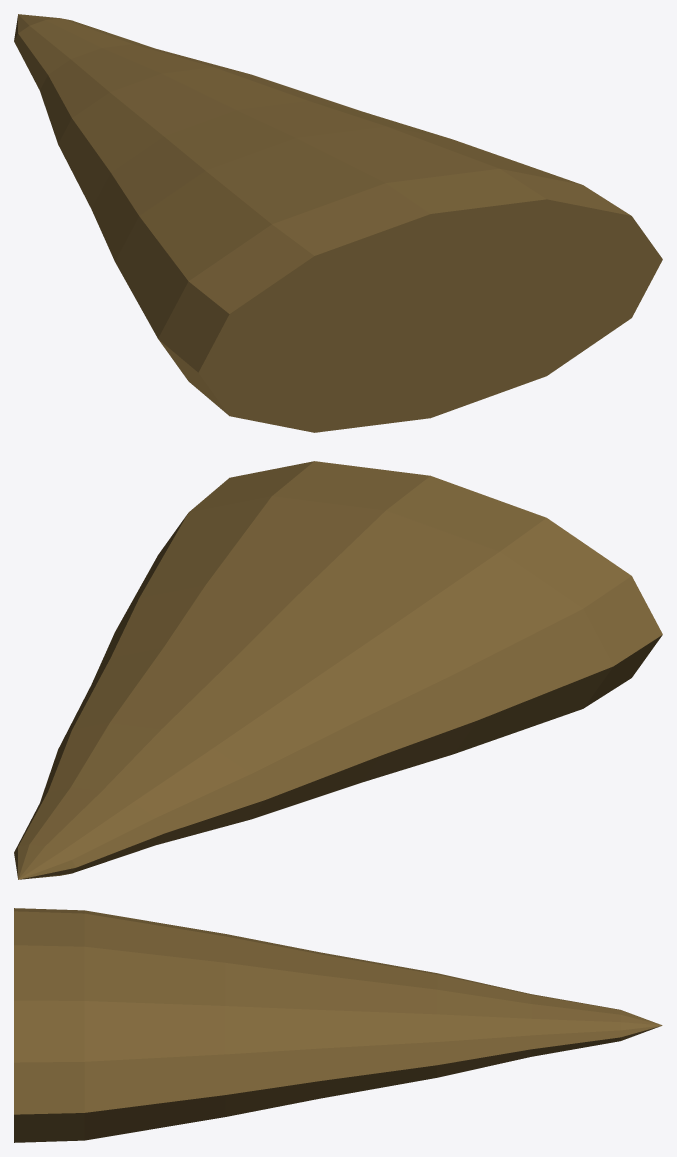
The model's file is newshh-17.glb.
The picture shows the model from 3 angles, top to bottom: view 1: azimuth 30°, elevation 25°; view 2: azimuth 150°, elevation 25°; view 3: azimuth 270°, elevation 25°; orthographic projection. The views are drawn at different scales.
Visible parts, largest first — view 1: newshh-17; view 2: newshh-17; view 3: newshh-17.
Part boxes in pixels (bbox=[...]): newshh-17: bbox=[14, 14, 662, 432]; newshh-17: bbox=[14, 461, 662, 879]; newshh-17: bbox=[14, 908, 662, 1142].
Size of the model in its own units: 0.7476 by 0.314 by 1.15.
